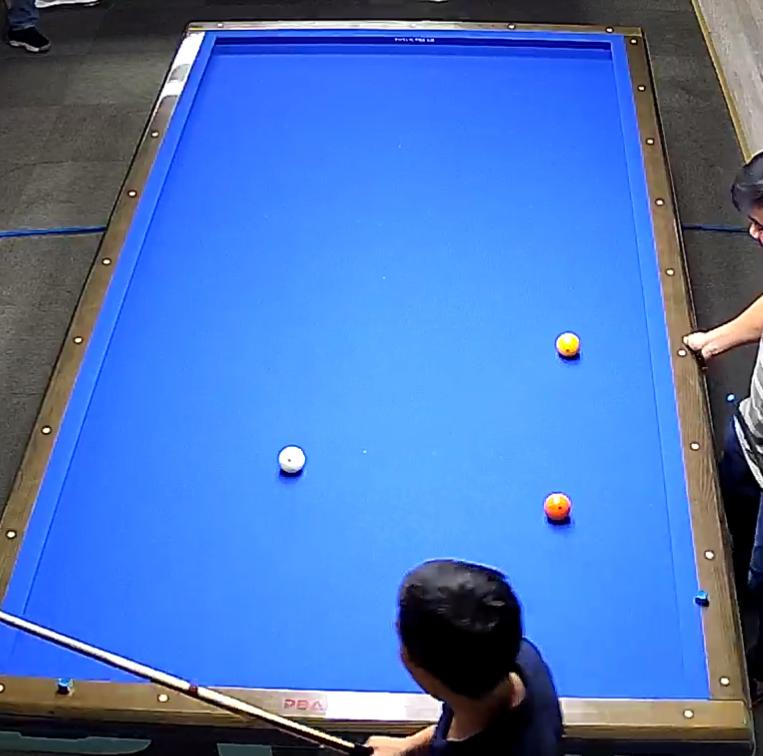orange ball: (537, 491, 572, 532)
white ball: (273, 443, 311, 480)
yellow ball: (551, 327, 587, 364)
